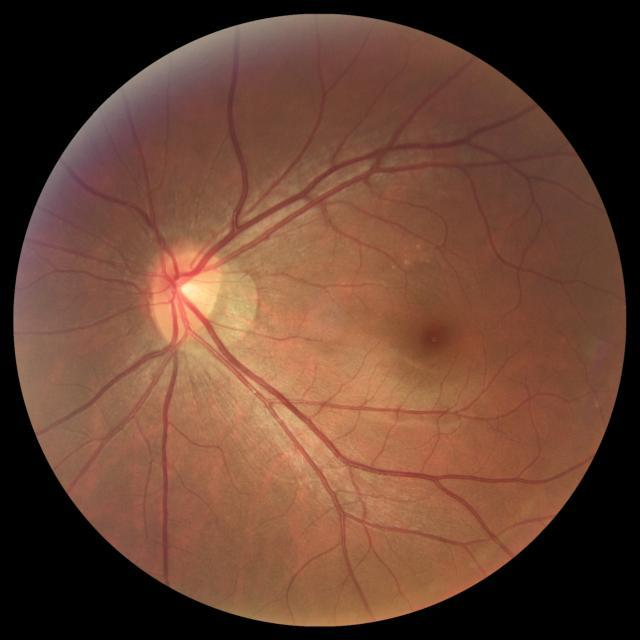OC: (170, 275, 200, 304)
OD: (150, 247, 223, 339)
